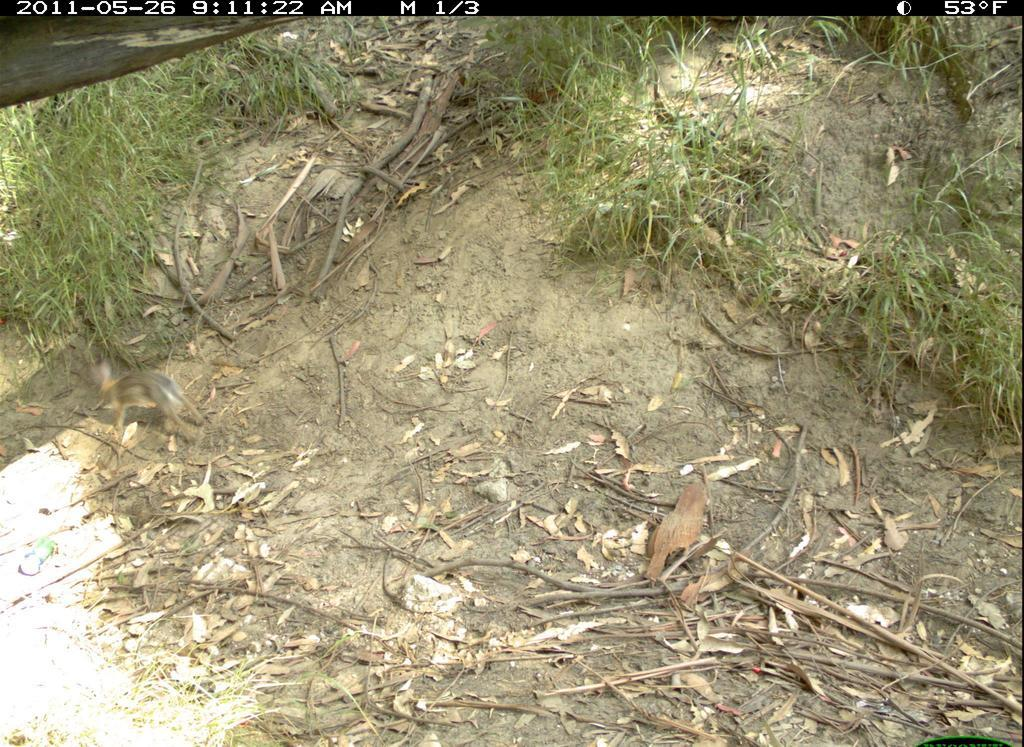rabbit: (89, 358, 209, 449)
